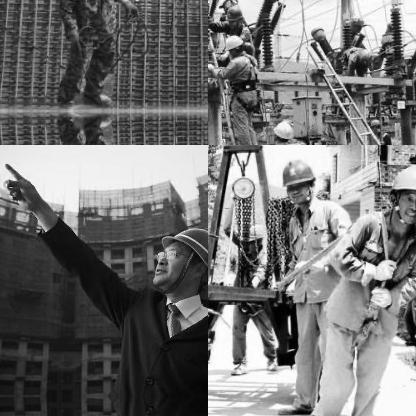Helmet: (151, 215, 207, 297), (385, 159, 415, 228), (280, 154, 316, 208), (240, 219, 264, 254), (271, 119, 294, 144), (222, 2, 244, 26), (223, 30, 243, 56), (368, 116, 382, 134), (256, 131, 268, 144)
